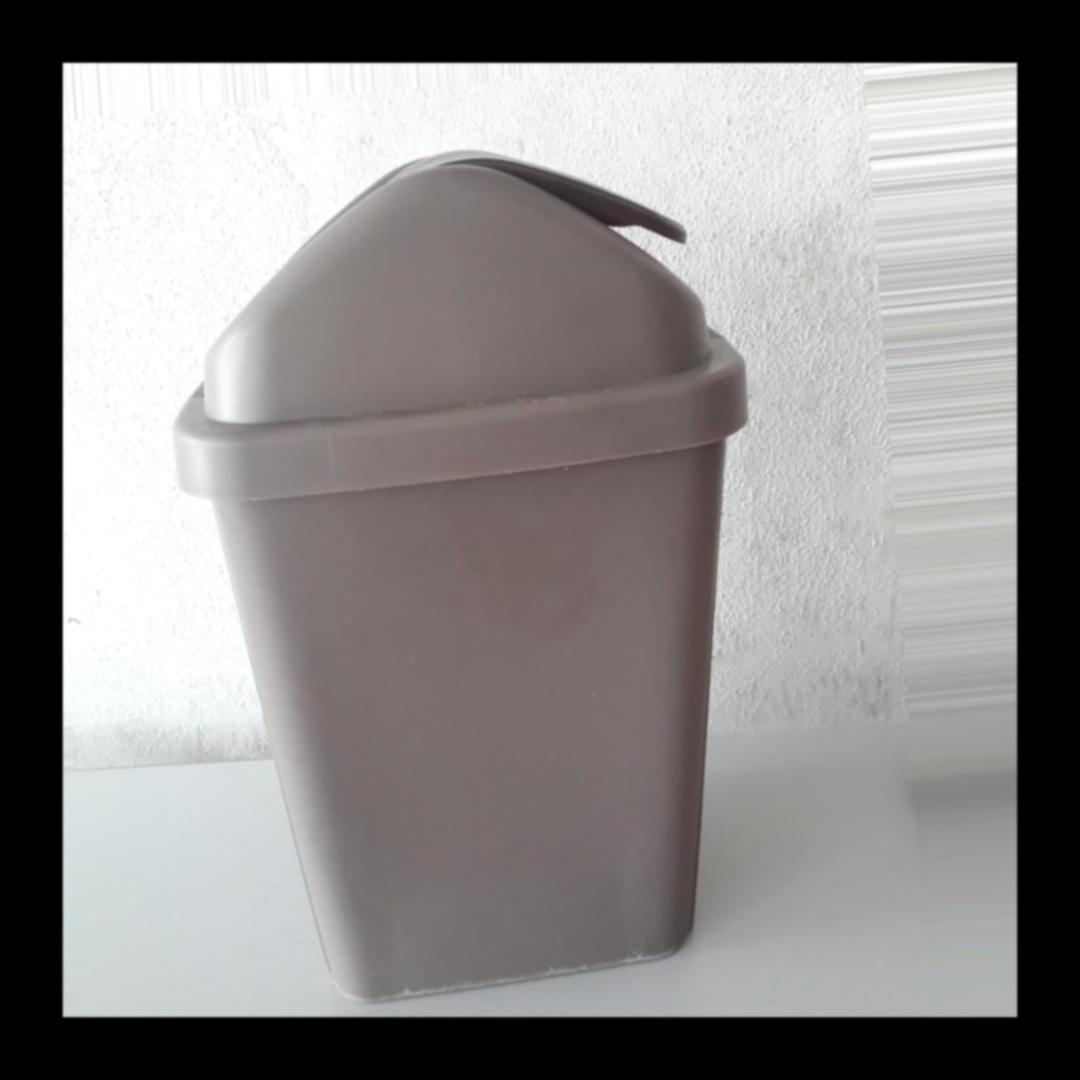Bote de Basura: (213, 145, 787, 1001)
